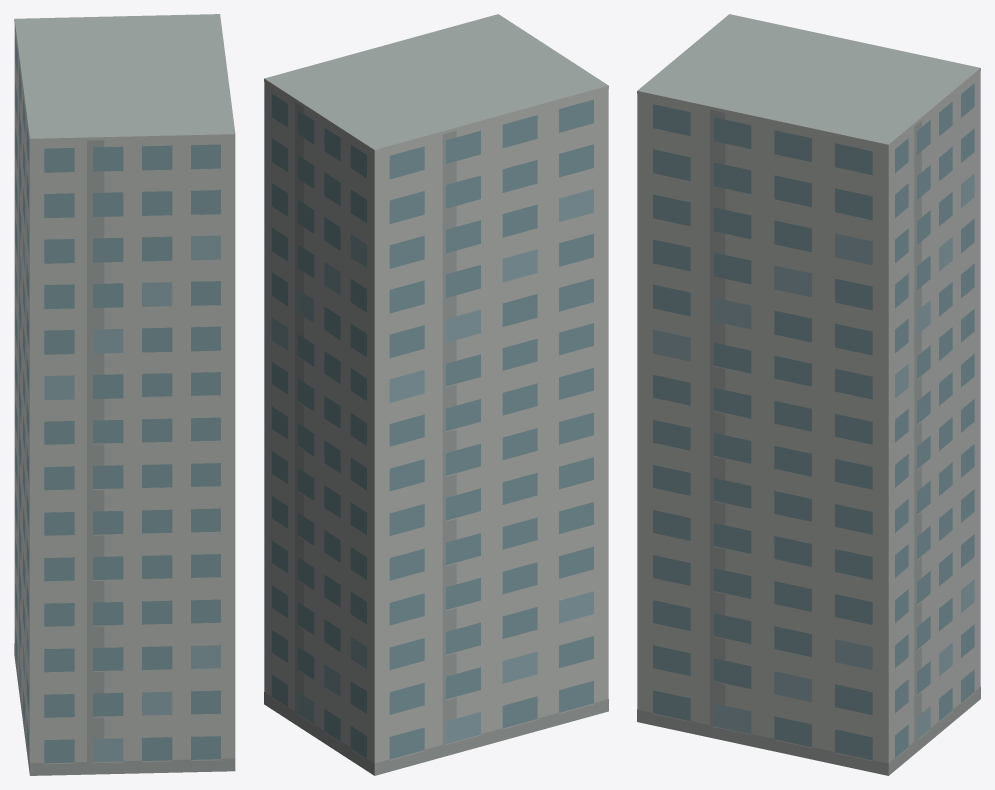
File: residential-6abbfa40-9144-434f-a8fa-0baaa4bcfe19.glb
The picture shows the model from 3 angles, left to right: view 1: azimuth 30°, elevation 25°; view 2: azimuth 150°, elevation 25°; view 3: azimuth 270°, elevation 25°; orthographic projection.
Parts seen in each view (by area): view 1: residential-6abbfa40-9144-434f-a8fa-0baaa4bcfe19.tmp; view 2: residential-6abbfa40-9144-434f-a8fa-0baaa4bcfe19.tmp; view 3: residential-6abbfa40-9144-434f-a8fa-0baaa4bcfe19.tmp.
Boxes of the visible parts, x1=… form: residential-6abbfa40-9144-434f-a8fa-0baaa4bcfe19.tmp: x1=14, y1=14, x2=235, y2=775; residential-6abbfa40-9144-434f-a8fa-0baaa4bcfe19.tmp: x1=264, y1=14, x2=608, y2=775; residential-6abbfa40-9144-434f-a8fa-0baaa4bcfe19.tmp: x1=637, y1=14, x2=980, y2=775.
Bounding box in the file's own units: 21.78 × 49 × 24.19.
